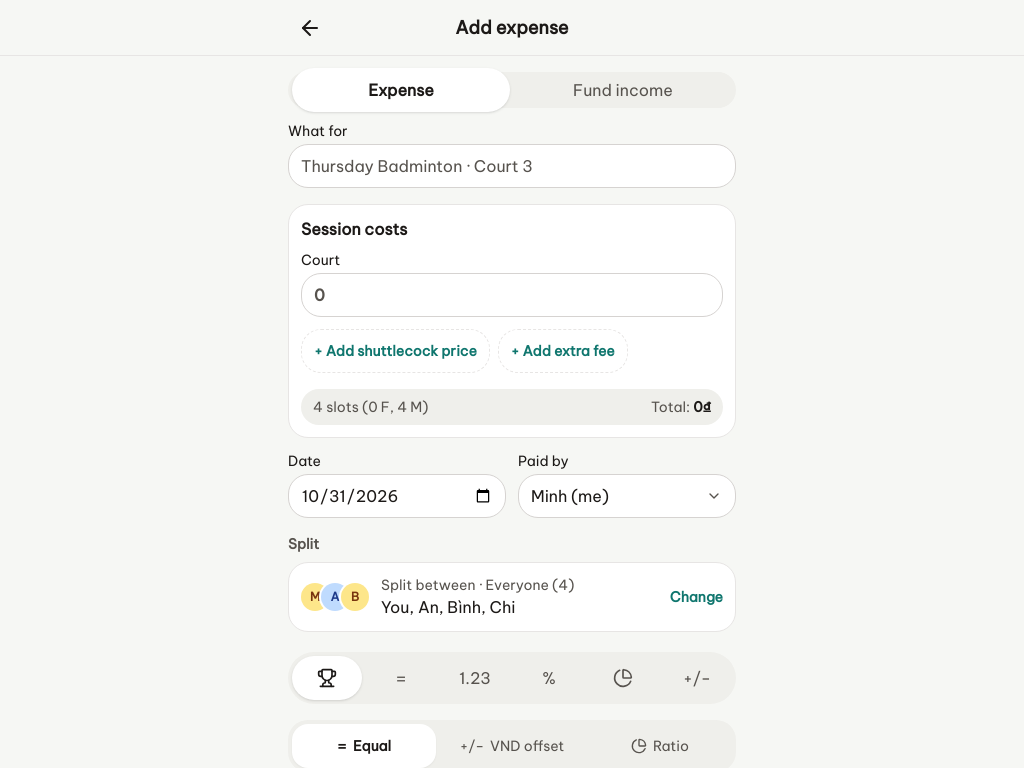
Test: Paid by: Group fund › over the fund: the message and Save disabled
The width and height of the screenshot is (1024, 768).
Select "Group fund · 400.000₫" in the dropdown labelled "Paid by" at (627, 496), box [518,474,736,518]
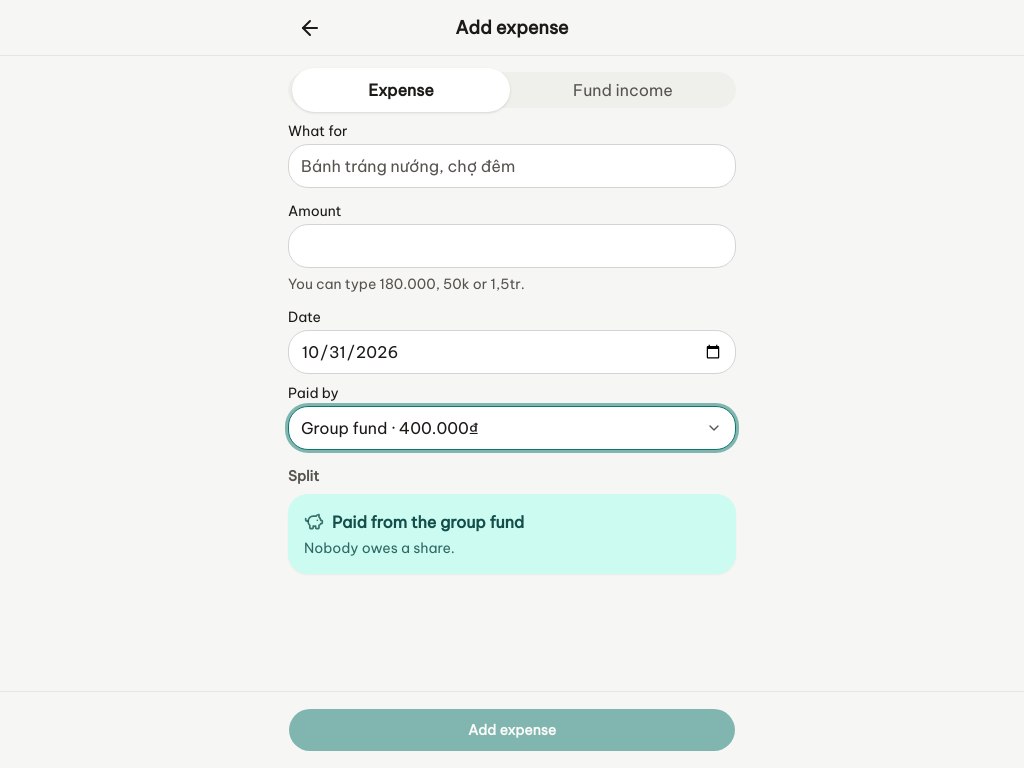
Type "Liên hoan cuối tháng" into the field labelled "What for" at (512, 166), box [288,144,736,188]
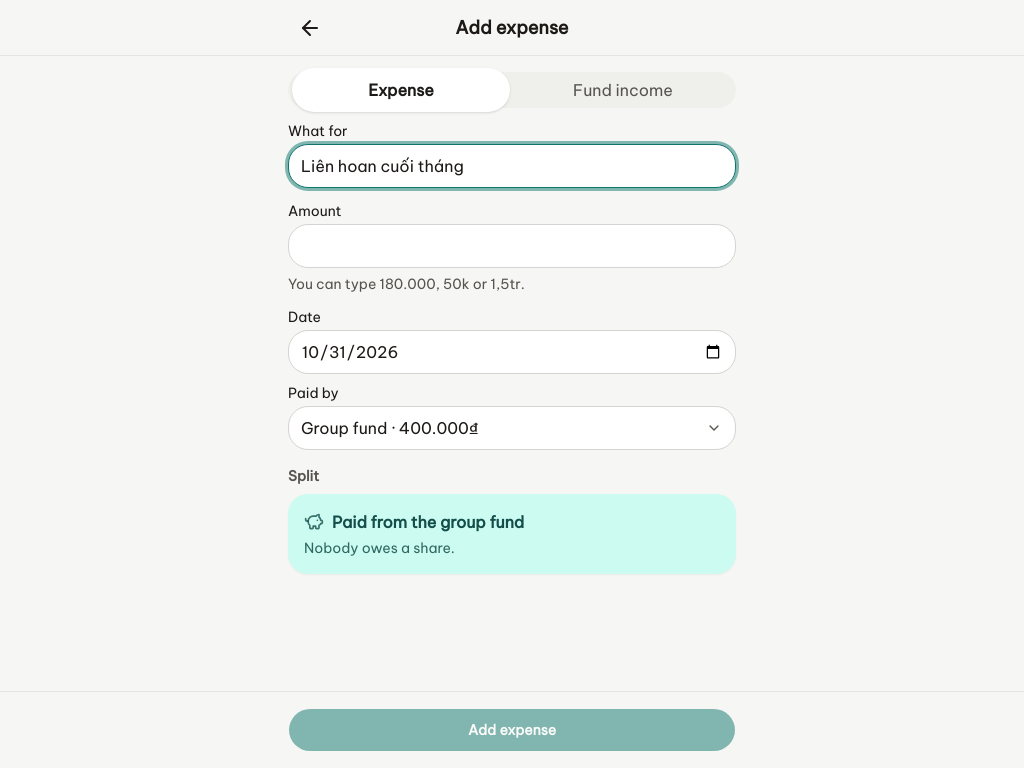
Type "500k" into the field labelled "Amount" at (512, 246), box [288,224,736,268]
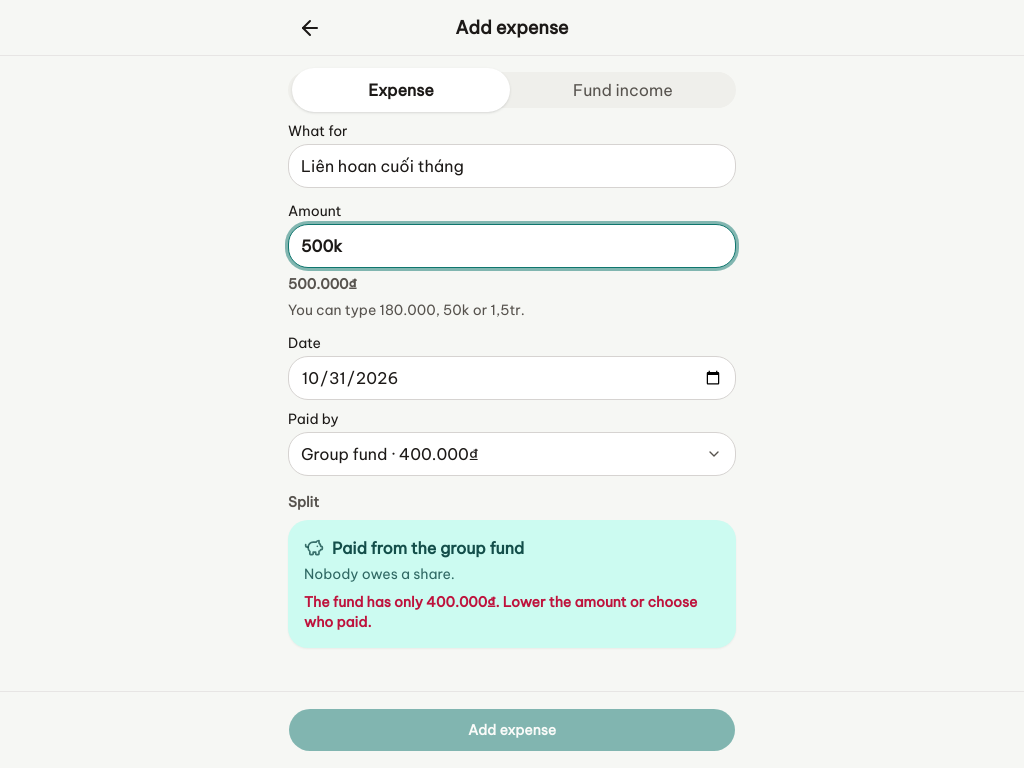
Expected: the text "Fund after this" is not shown
Now the text "The fund has only 400.000₫. Lower the amount or choose who paid." is shown, box [304,592,720,632]
Replace the text in the field labelled "Amount" with "400k" at (512, 246), box [288,224,736,268]
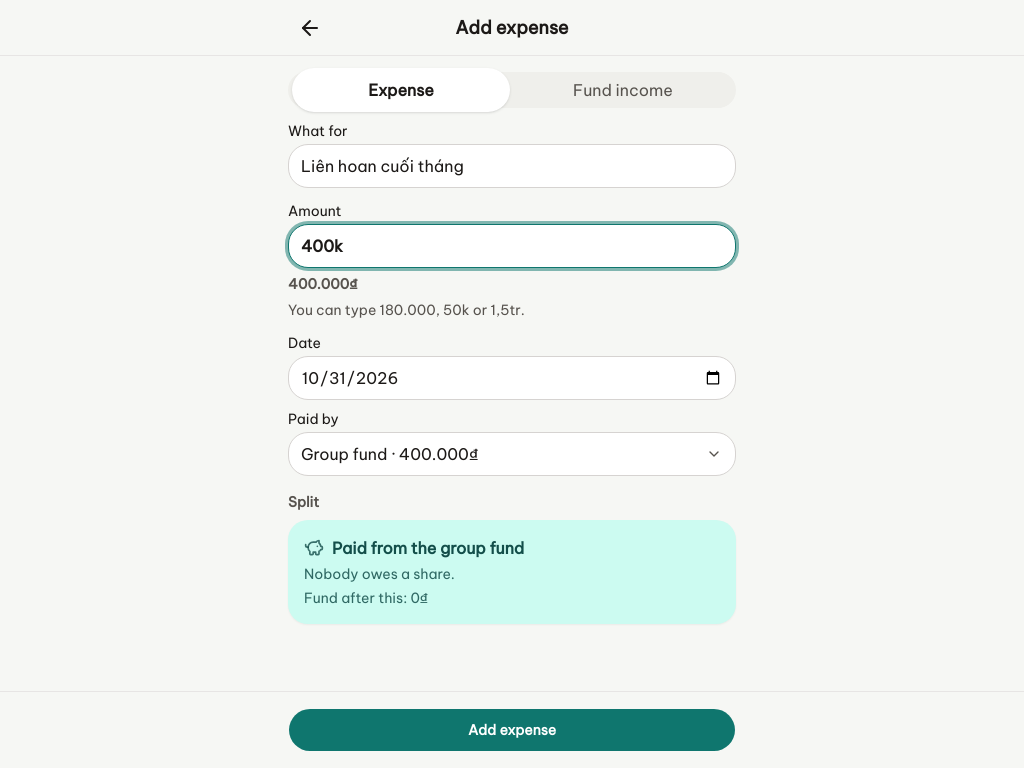
Now the text "Fund after this: 0₫" is shown, box [304,589,428,607]
Now the button "Add expense" is enabled, box [288,708,736,752]
